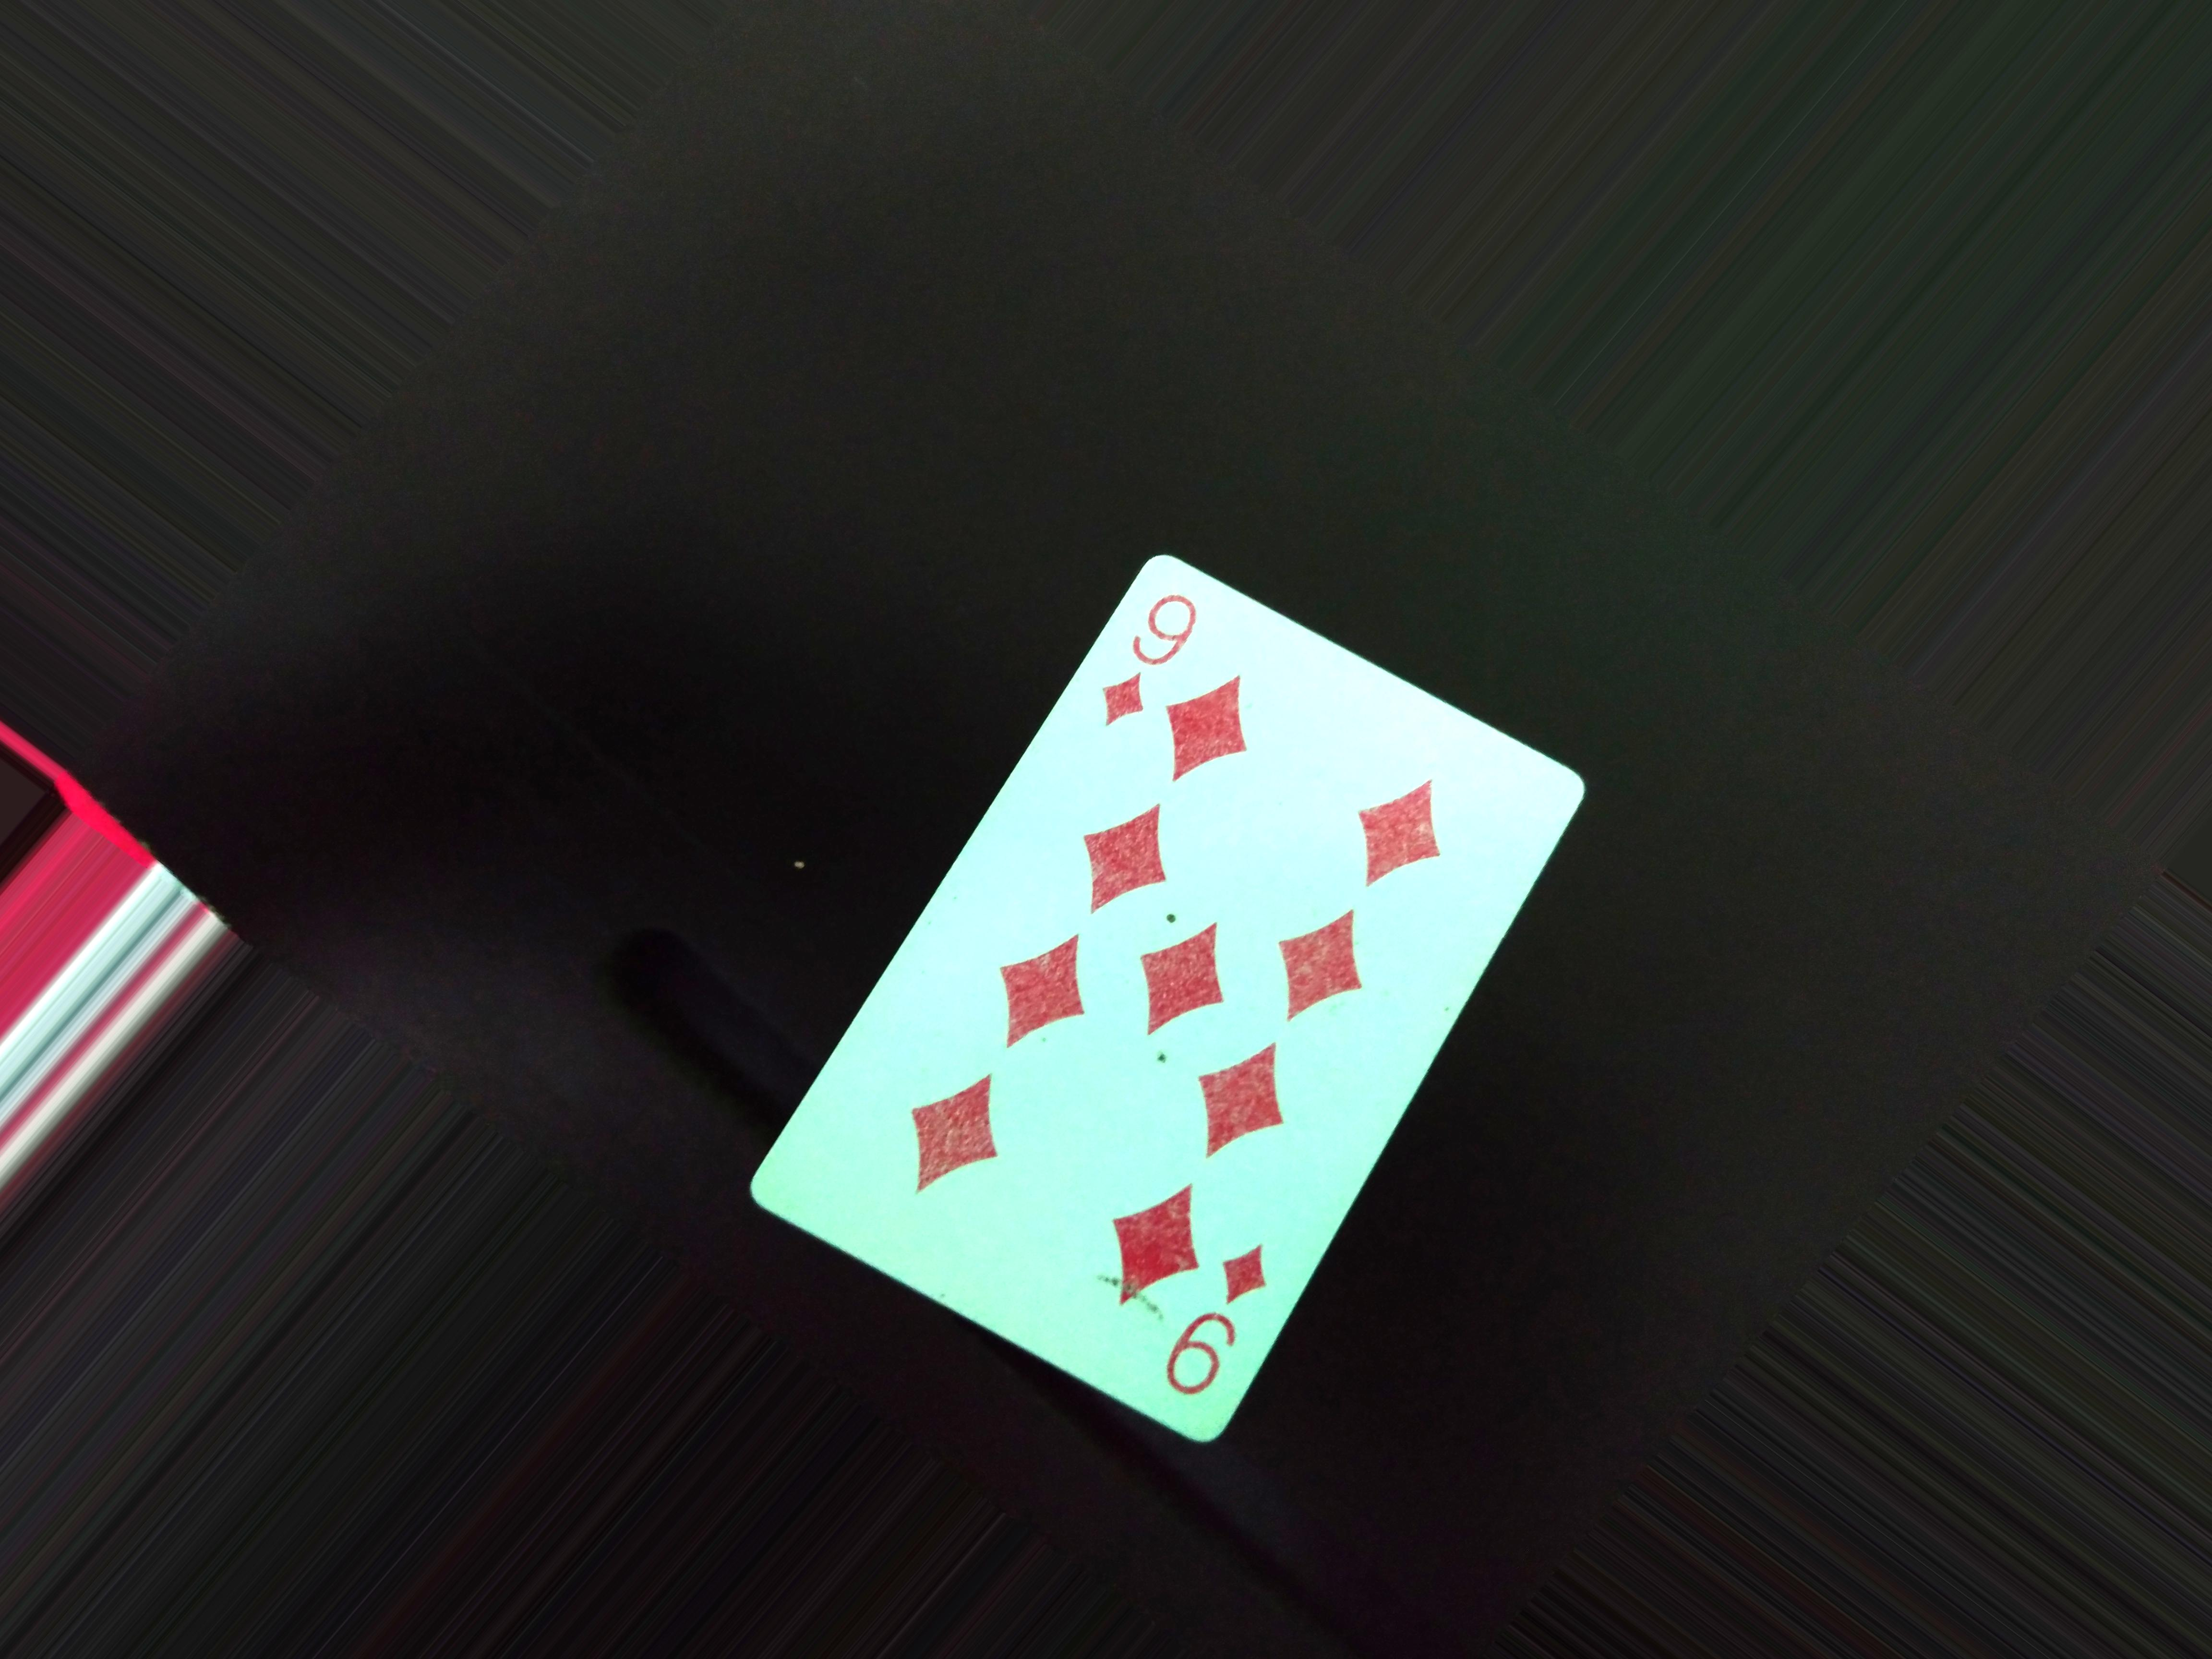9D: (1082, 573, 1221, 748)
